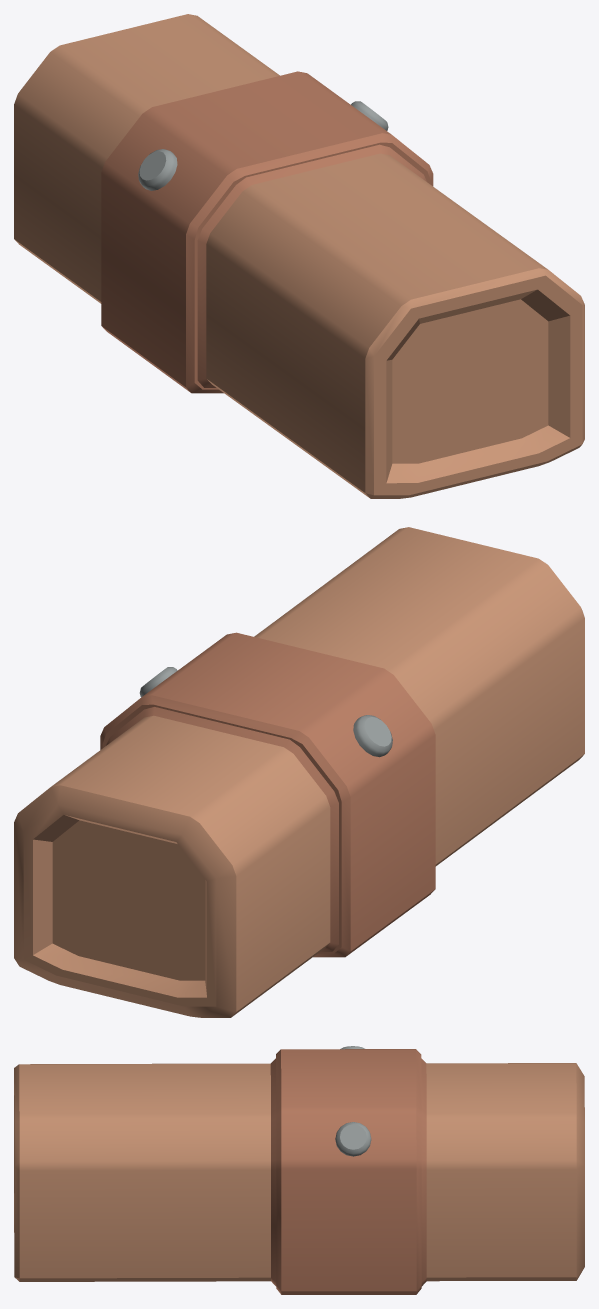
Rendered from Pilone_01 1.fbx.
3 renders of one model, top to bottom at view 1: azimuth 30°, elevation 25°; view 2: azimuth 150°, elevation 25°; view 3: azimuth 270°, elevation 25°, orthographic. The views are drawn at different scales.
Visible parts, largest first — view 1: Cube.013; view 2: Cube.013; view 3: Cube.013.
Boxes of the visible parts, x1,y1,x2,y2 form: Cube.013: [14, 14, 584, 498]; Cube.013: [14, 527, 584, 1017]; Cube.013: [14, 1046, 584, 1294].
Size of the model in its own units: 89.79 by 77.08 by 224.
